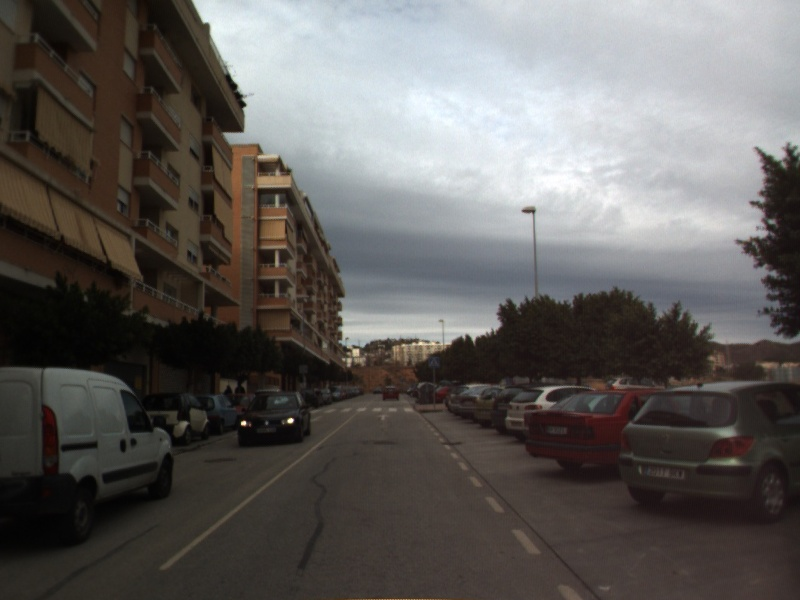STRAIGHT: (375, 412, 392, 422)
